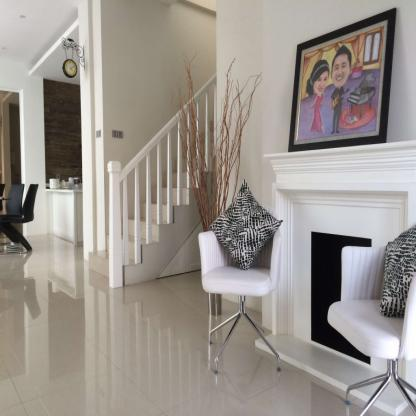bantal: (212, 186, 273, 262), (384, 230, 414, 309)
kursi: (327, 228, 416, 416), (199, 214, 283, 376), (6, 183, 39, 253)
lukisan: (288, 7, 389, 145)
